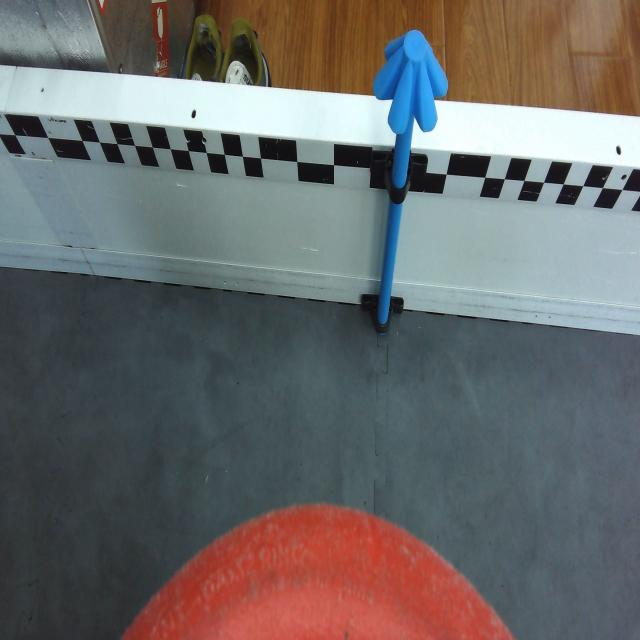zblue-Stake-Head: (374, 30, 448, 136)
